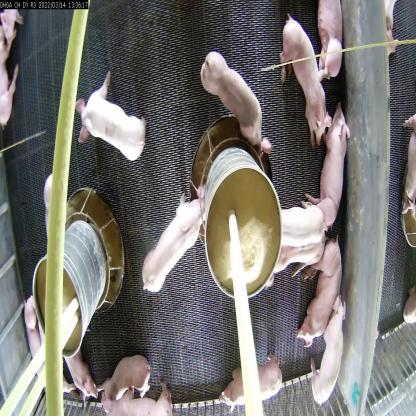Pig: (70, 73, 150, 177), (269, 24, 330, 148), (291, 236, 340, 348), (144, 197, 203, 287), (321, 110, 361, 233), (311, 296, 345, 410), (269, 208, 326, 272), (315, 0, 352, 93), (221, 359, 281, 413), (18, 289, 52, 377), (101, 348, 153, 396), (96, 392, 173, 416), (63, 349, 89, 391)
